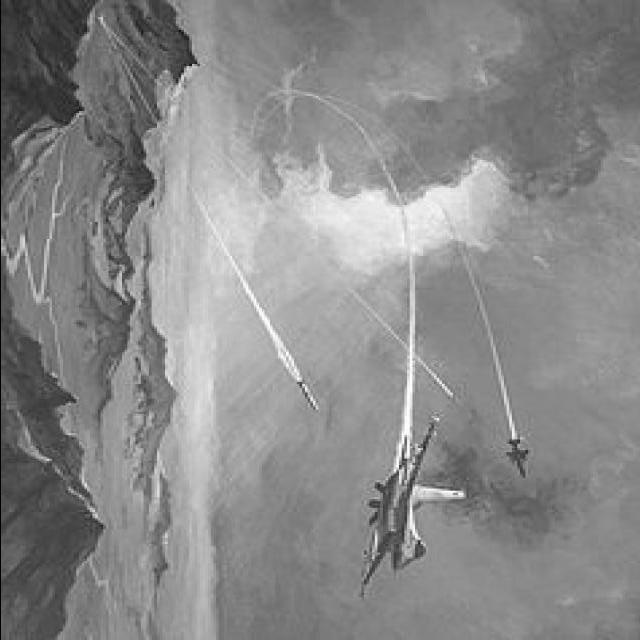missile: (287, 378, 326, 416)
